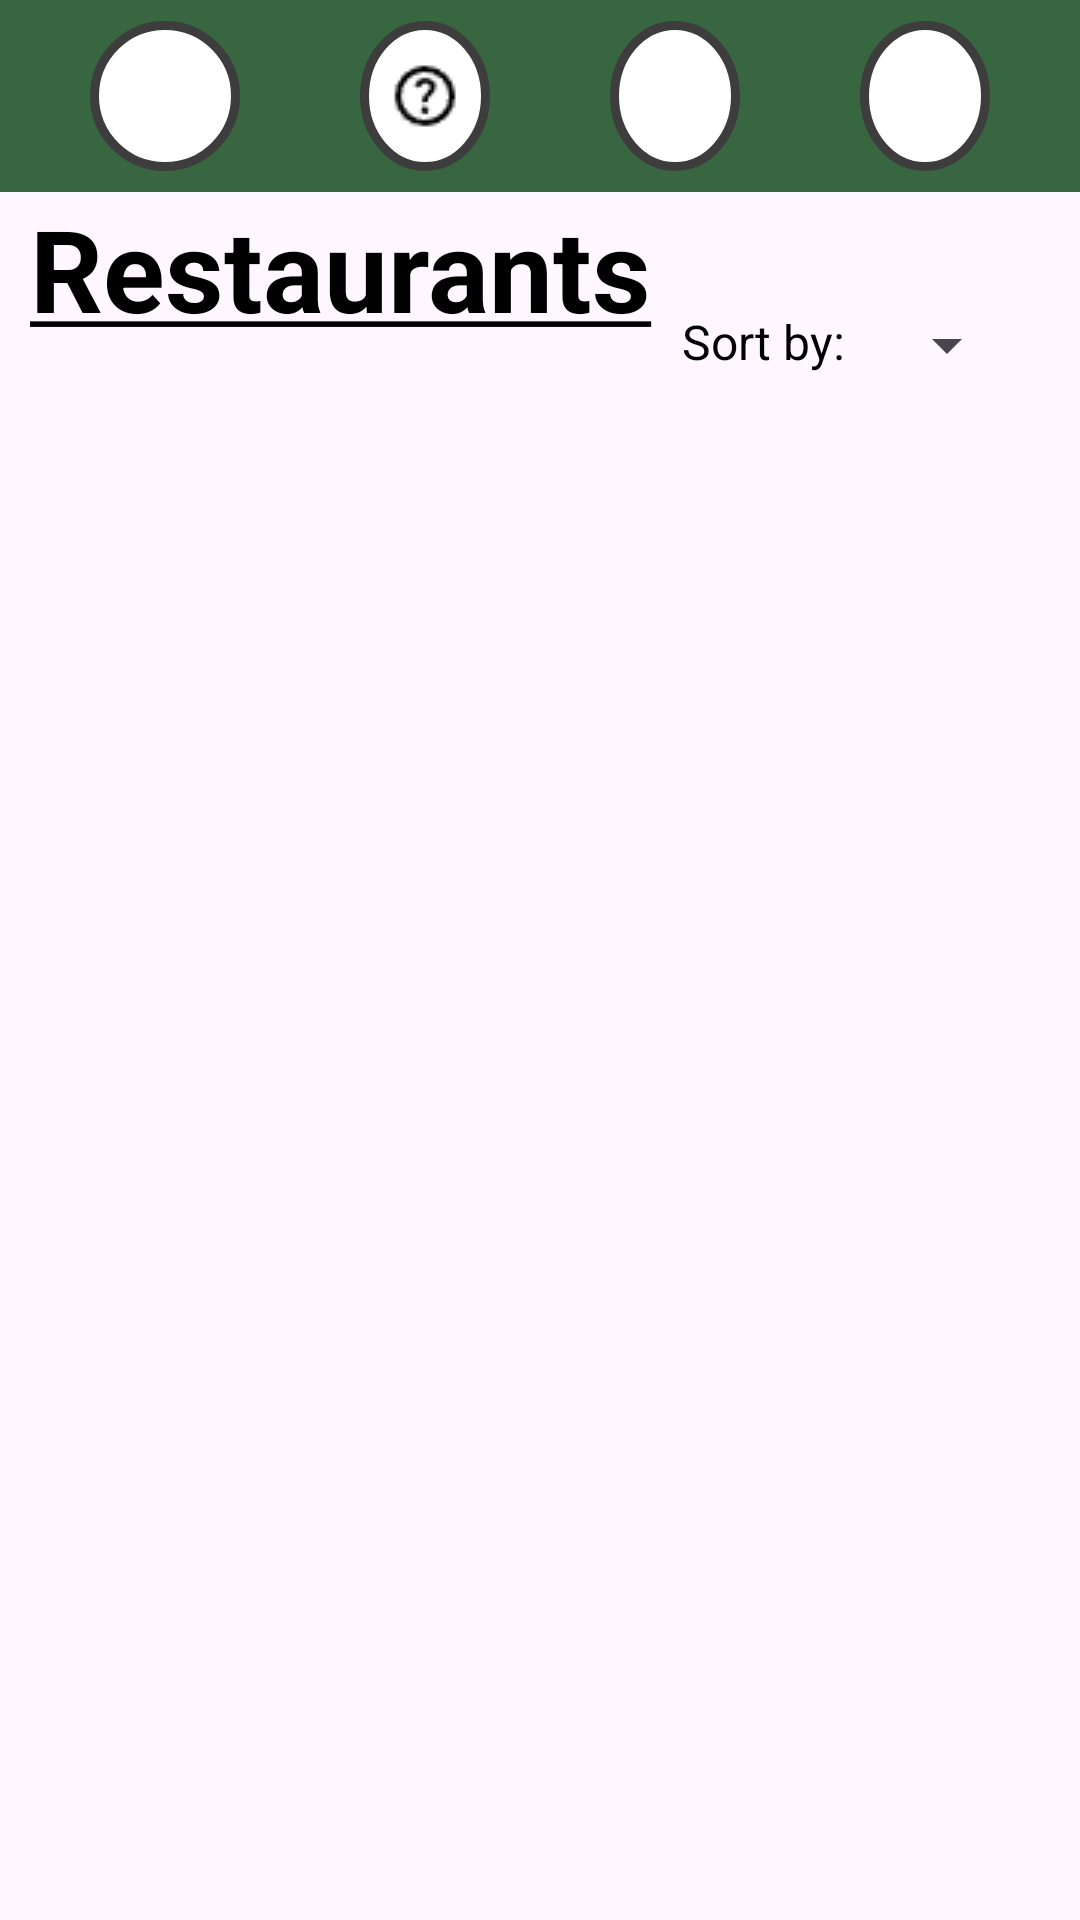

Named icons in this screenshot (1080 × 1920) and their centers, (x=x, y=y):
help: (x=425, y=96)
